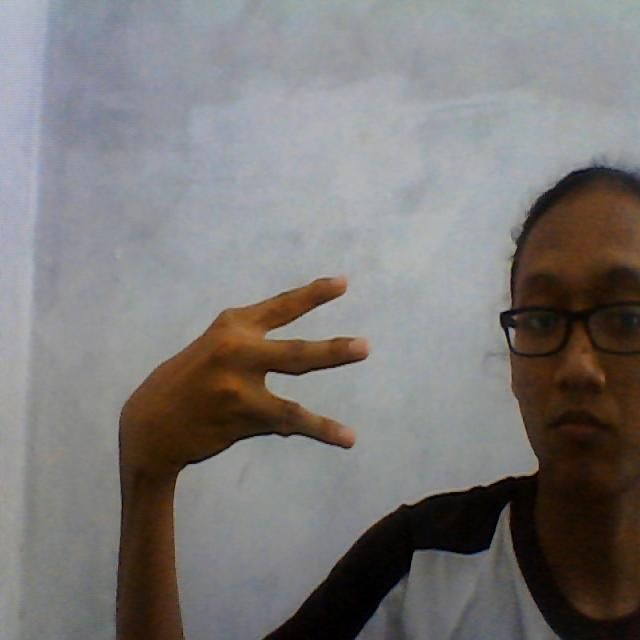E: (115, 266, 386, 502)
